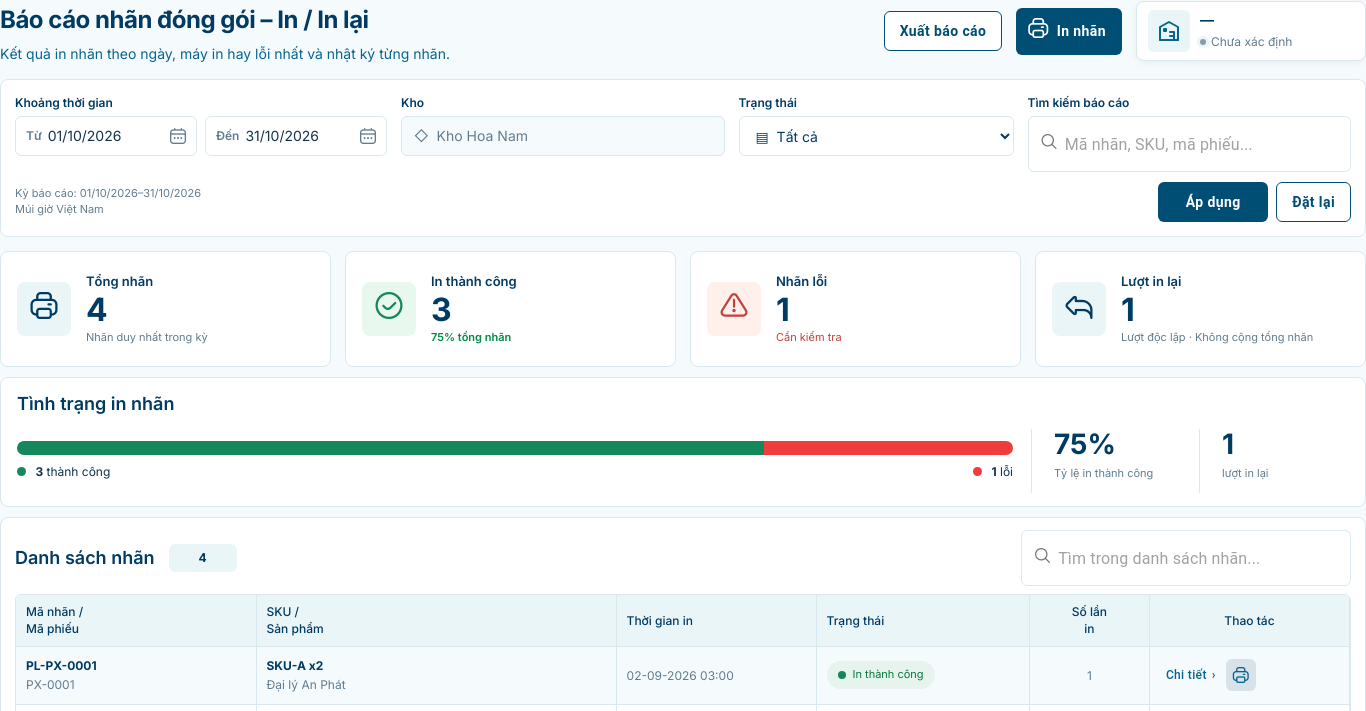
Test case: RPT-05 · Nhãn đóng gói In / In lại › dịch trạng thái bản lưu của BE thay vì in enum PRINTED
What coordinates should you click on to do the following:
click the button with aria-label "Xem chi tiết nhãn"
I would click on:
 (1191, 675)
Its box is [1160,659,1222,691].
(page scrolled)
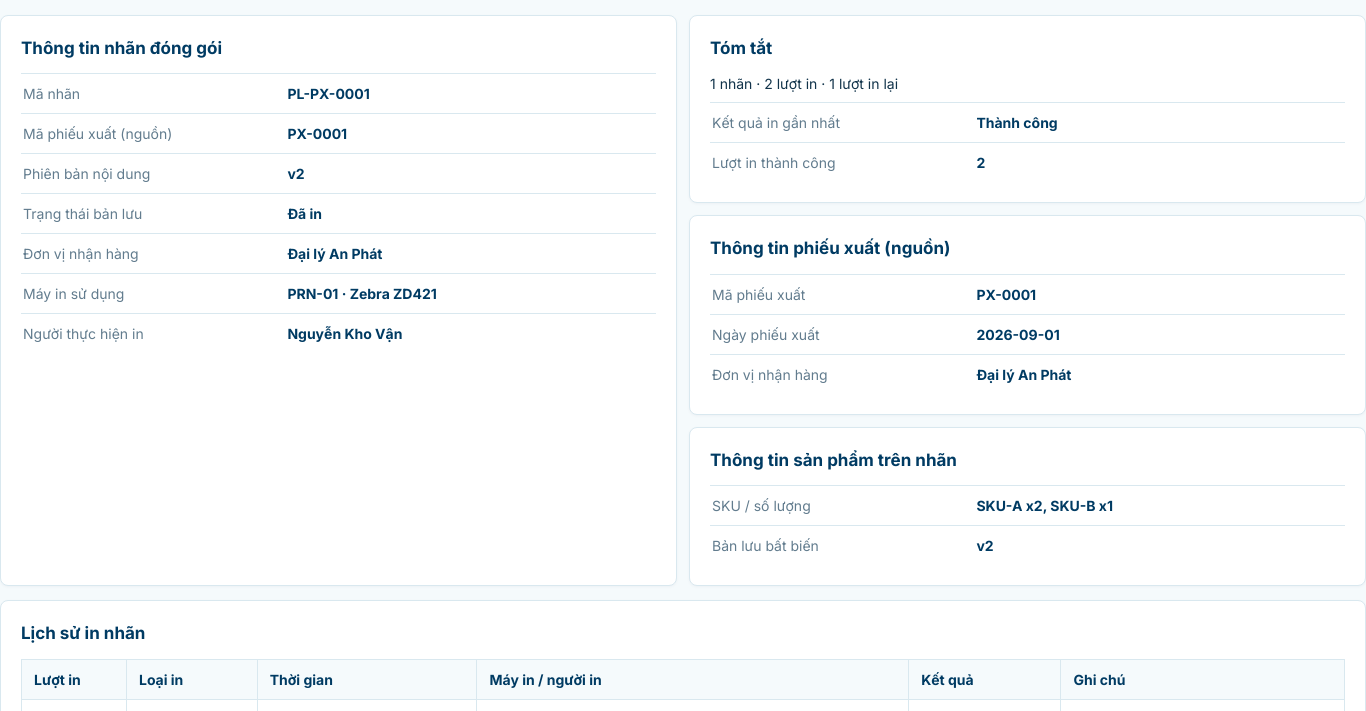
expect the text "Đã in" is shown: met, box [287,205,322,222]
